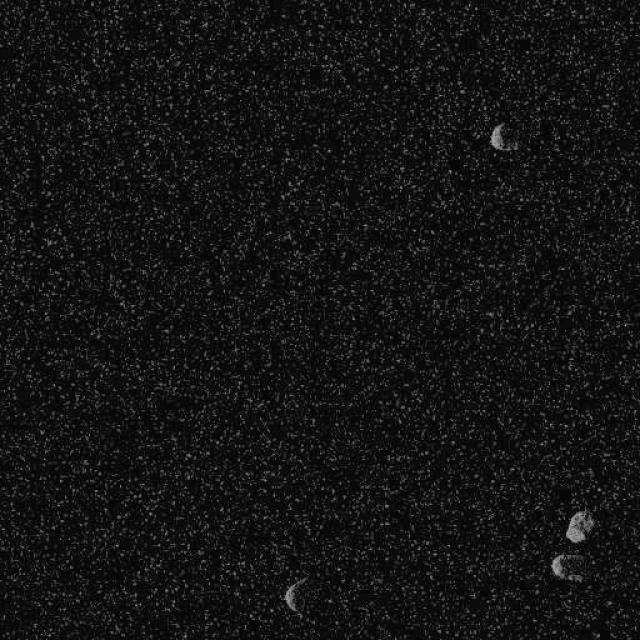D2: (550, 552, 589, 582), (564, 508, 595, 544), (282, 574, 308, 616), (488, 121, 518, 151)
